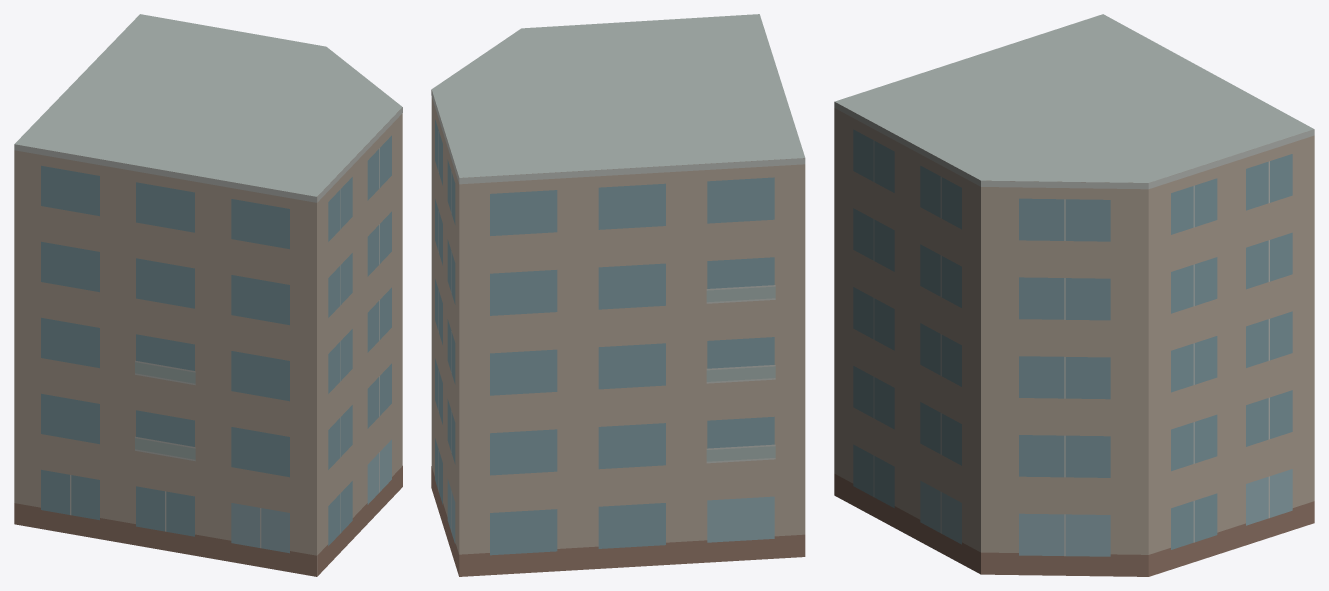
The model's file is survey-upis-32672676.glb.
3 views of the same model, side by side, from view 1: azimuth 30°, elevation 25°; view 2: azimuth 150°, elevation 25°; view 3: azimuth 270°, elevation 25° (orthographic). The views are drawn at different scales.
Visible parts, largest first — view 1: survey-upis-32672676.tmp; view 2: survey-upis-32672676.tmp; view 3: survey-upis-32672676.tmp.
Boxes of the visible parts, left/top/right/bottom form: survey-upis-32672676.tmp: left=14, top=14, right=402, bottom=576; survey-upis-32672676.tmp: left=431, top=14, right=805, bottom=576; survey-upis-32672676.tmp: left=834, top=14, right=1314, bottom=576.
Size of the model in its own units: 14.13 by 15.35 by 16.97.
